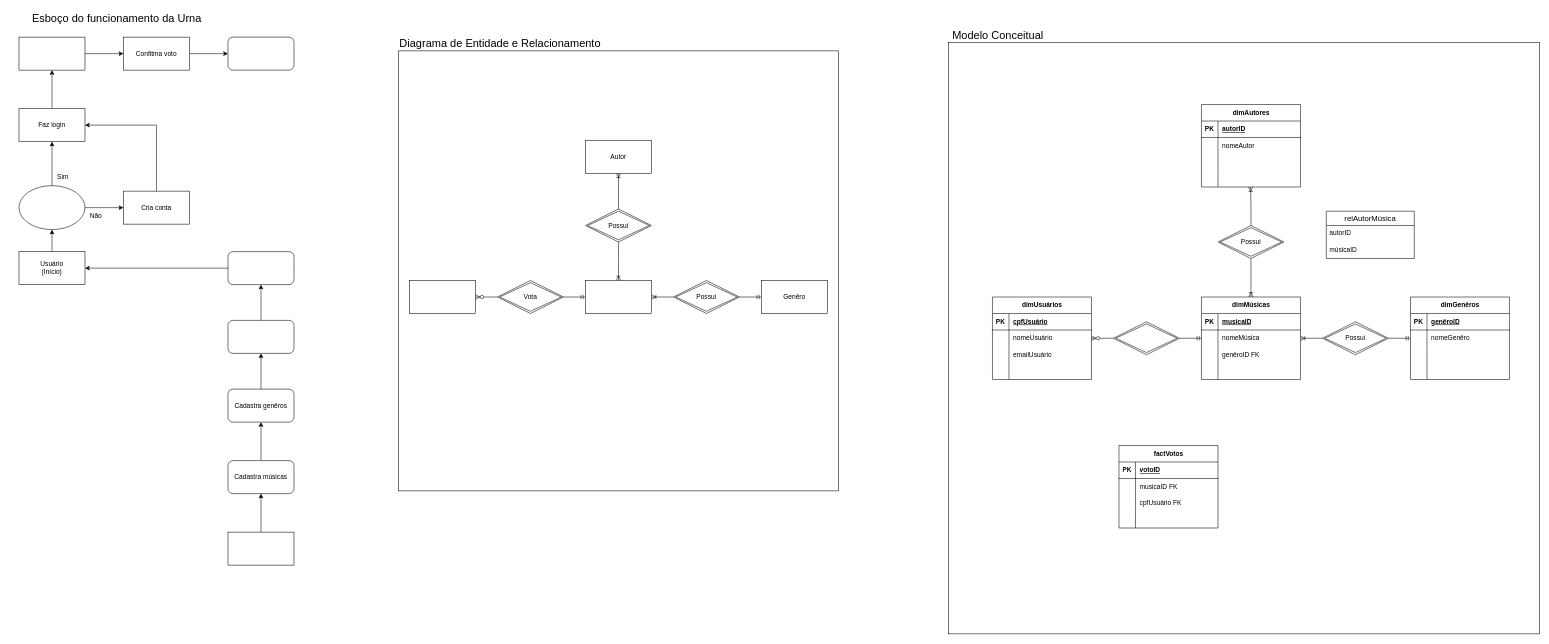
The diagram is 1549 pixels wide and 644 high, and some of its shapes have lost their labels. The centre of each missing label's shape, as x and y in pixels:
Adm: (260,548)
Cadastra autores: (260,336)
Encerra votação: (260,53)
Inicia votação: (260,268)
Música: (618,297)
Tem conta?: (51,207)
Usuário: (442,297)
Verifica as múscias: (51,53)
Votar: (1146,338)
